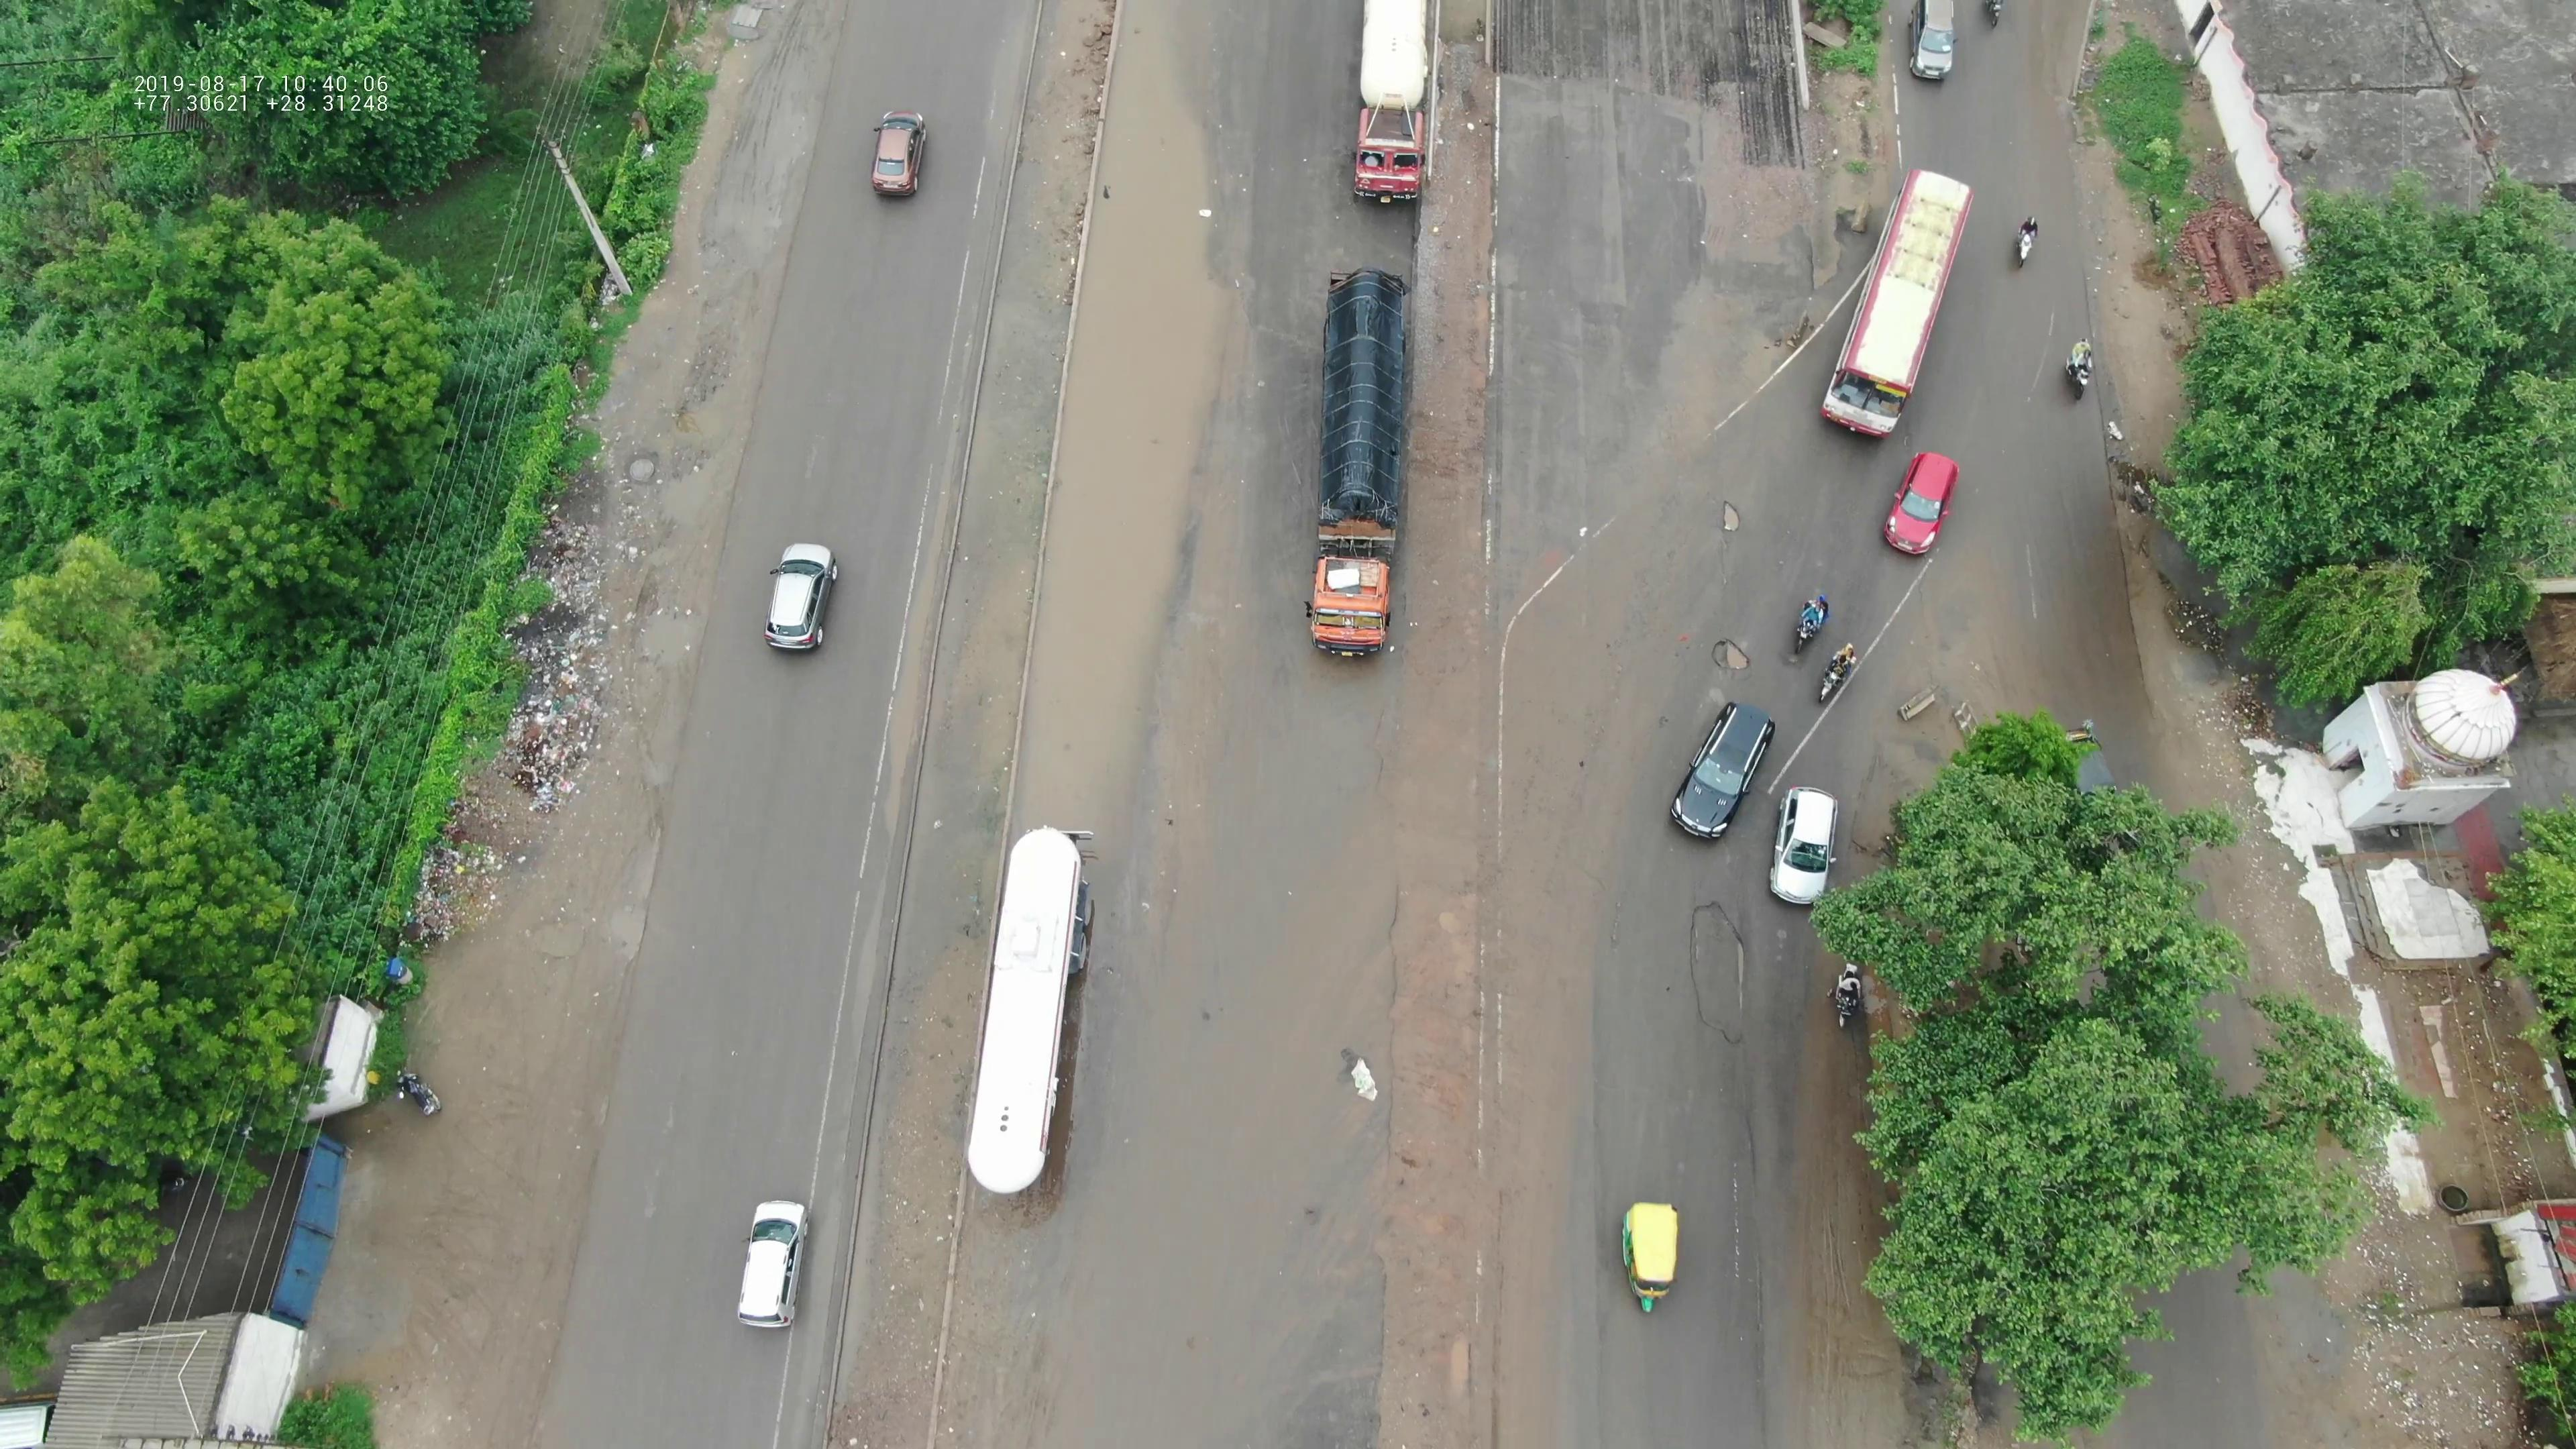Potholes: (1668, 863, 1787, 1079), (1675, 481, 1764, 548), (607, 444, 692, 501), (1679, 639, 1752, 690)
Road_side_garbage: (398, 529, 612, 985)
Waterlogging: (1008, 25, 1240, 839)
